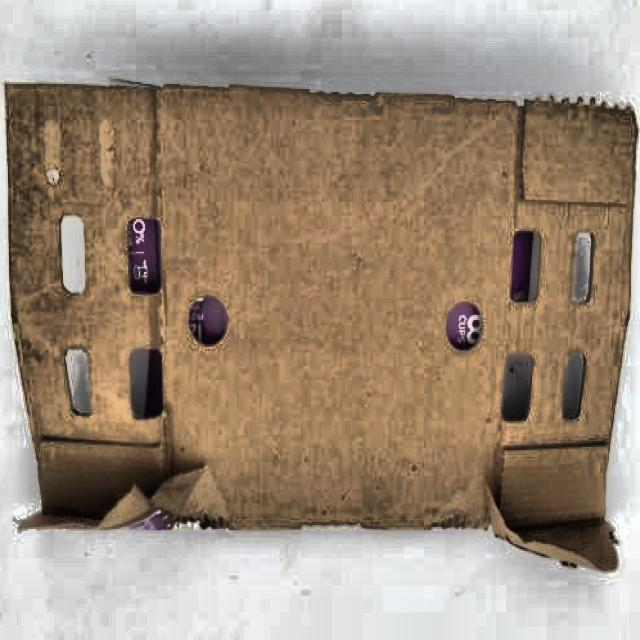cardboard: (4, 80, 640, 575)
